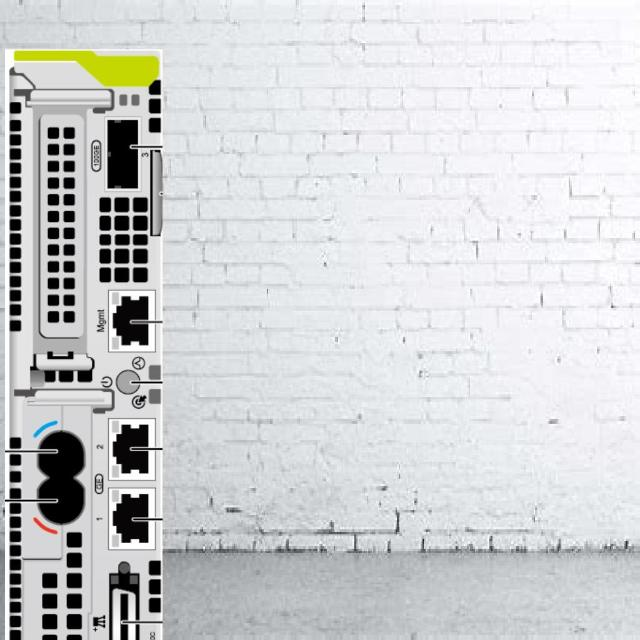Server: (5, 48, 162, 640)
